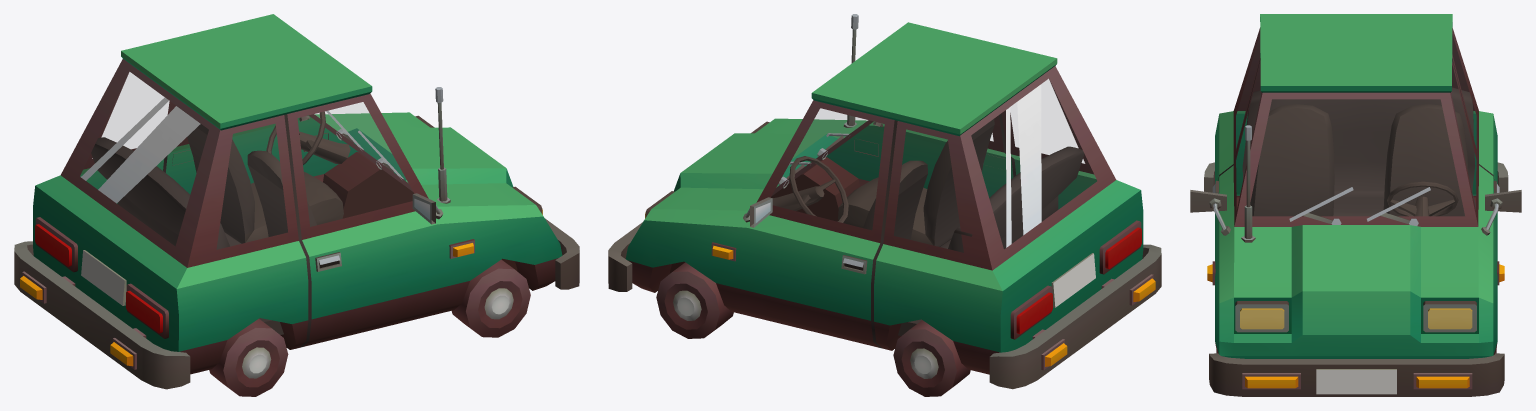
File: Car_02.FBX
3 views of the same model, side by side, from view 1: azimuth 30°, elevation 25°; view 2: azimuth 150°, elevation 25°; view 3: azimuth 270°, elevation 25° (orthographic). The views are drawn at different scales.
Visible parts, largest first — view 1: Car_02; view 2: Car_02; view 3: Car_02.
Boxes of the visible parts, <box> form: Car_02: <box>14,14,579,396</box>; Car_02: <box>608,14,1161,396</box>; Car_02: <box>1190,14,1521,396</box>.
Size of the model in its own units: 289 by 161 by 191.
Materials: 2 (1 with a texture image).
